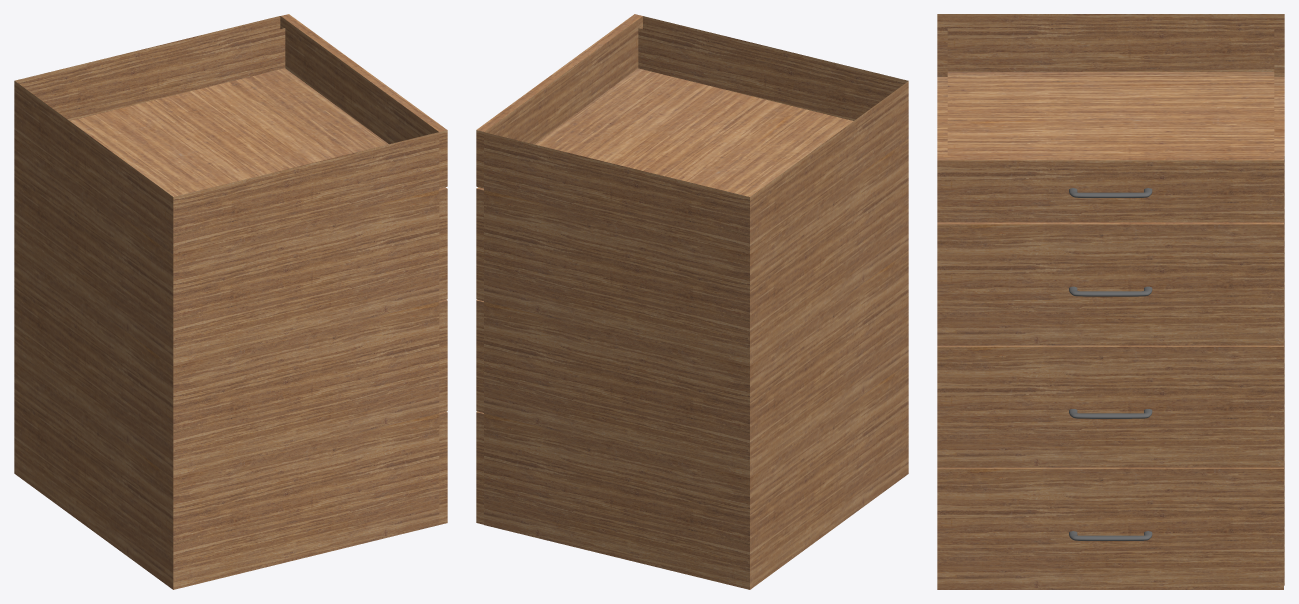
The model's file is cekmeceler.fbx.
The picture shows the model from 3 angles, left to right: view 1: azimuth 30°, elevation 25°; view 2: azimuth 150°, elevation 25°; view 3: azimuth 270°, elevation 25°; orthographic projection. The views are drawn at different scales.
Visible parts, largest first — view 1: Cabinet3.004, Cabinet2.002, Cabinet2.005, Cabinet2.001, Cabinet3_Door.003, Cabinet2_Door.005, Cabinet2_Door.001, Cabinet2_Door.002; view 2: Cabinet3.004, Cabinet2.002, Cabinet2.005, Cabinet2.001, Cabinet3_Door.003, Cabinet2_Door.005, Cabinet2_Door.001, Cabinet2_Door.002; view 3: Cabinet3.004, Cabinet2_Door.005, Cabinet2_Door.001, Cabinet2_Door.002, Cabinet3_Door.003, Handle.017, Handle.018, Handle.002, Handle.001.
Boxes of the visible parts, left/top/right/bottom form: Cabinet3.004: left=14, top=16, right=439, bottom=254; Cabinet2.002: left=14, top=362, right=439, bottom=589; Cabinet2.005: left=14, top=138, right=439, bottom=366; Cabinet2.001: left=14, top=250, right=439, bottom=477; Cabinet3_Door.003: left=280, top=14, right=447, bottom=188; Cabinet2_Door.005: left=439, top=187, right=447, bottom=301; Cabinet2_Door.001: left=439, top=299, right=447, bottom=412; Cabinet2_Door.002: left=439, top=411, right=447, bottom=524; Cabinet3.004: left=484, top=16, right=908, bottom=254; Cabinet2.002: left=484, top=362, right=908, bottom=589; Cabinet2.005: left=484, top=139, right=908, bottom=366; Cabinet2.001: left=484, top=250, right=908, bottom=477; Cabinet3_Door.003: left=476, top=14, right=642, bottom=188; Cabinet2_Door.005: left=476, top=187, right=483, bottom=300; Cabinet2_Door.001: left=476, top=299, right=483, bottom=412; Cabinet2_Door.002: left=476, top=411, right=483, bottom=524; Cabinet3.004: left=937, top=14, right=1284, bottom=218; Cabinet2_Door.005: left=937, top=222, right=1283, bottom=345; Cabinet2_Door.001: left=937, top=345, right=1283, bottom=467; Cabinet2_Door.002: left=937, top=467, right=1283, bottom=589; Cabinet3_Door.003: left=937, top=156, right=1283, bottom=222; Handle.017: left=1069, top=286, right=1152, bottom=296; Handle.018: left=1069, top=188, right=1152, bottom=197; Handle.002: left=1069, top=531, right=1152, bottom=540; Handle.001: left=1069, top=409, right=1152, bottom=418.
Bounding box in the file's own units: 62.76 × 81.9 × 60.
